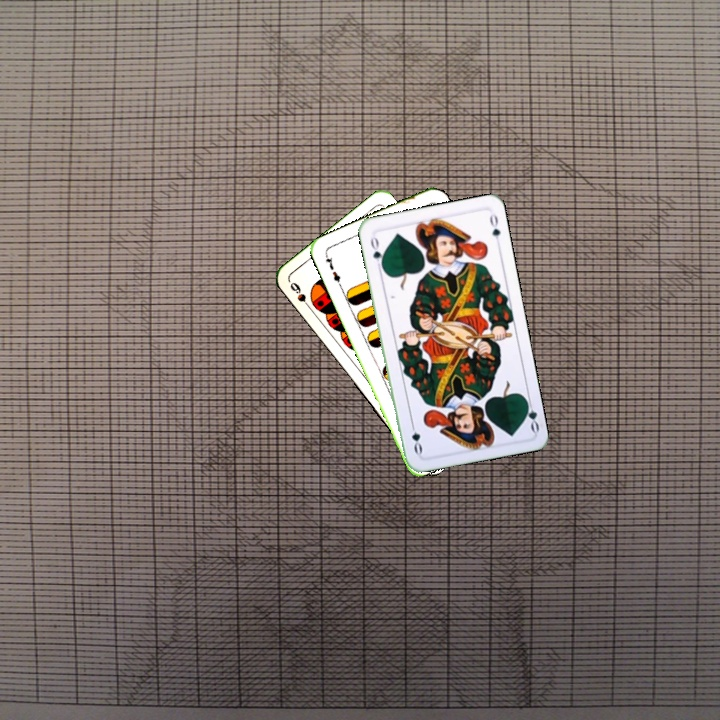E7: (321, 250, 344, 289)
GO: (520, 394, 542, 434), (366, 232, 386, 271)
S9: (286, 278, 315, 313)
